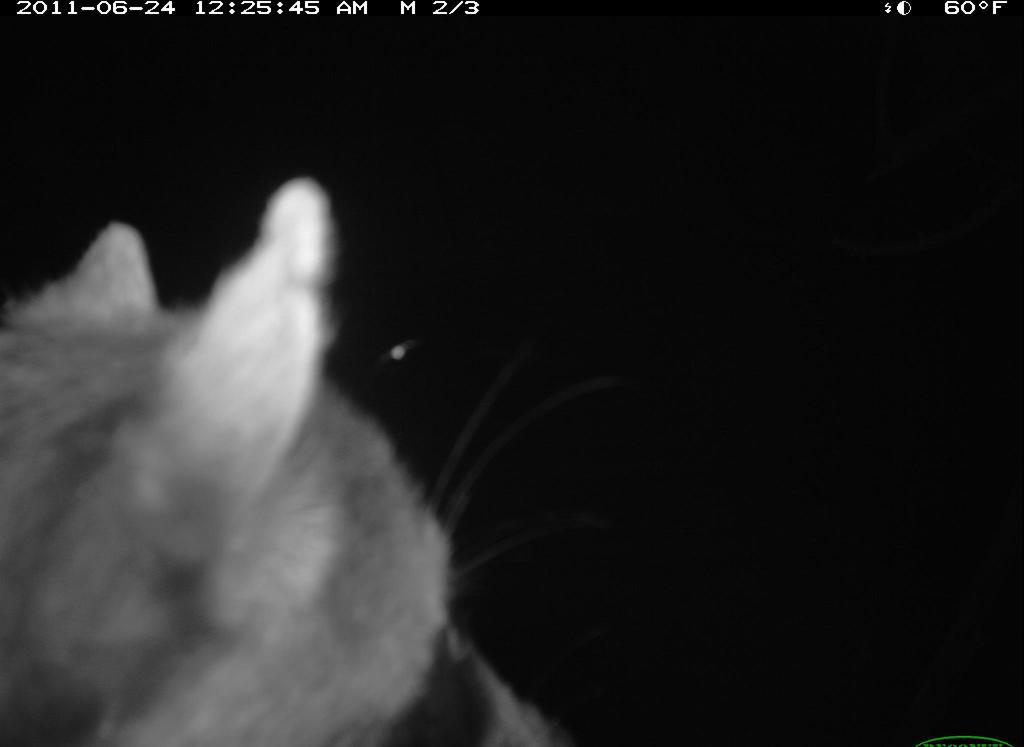raccoon: (11, 166, 575, 740)
